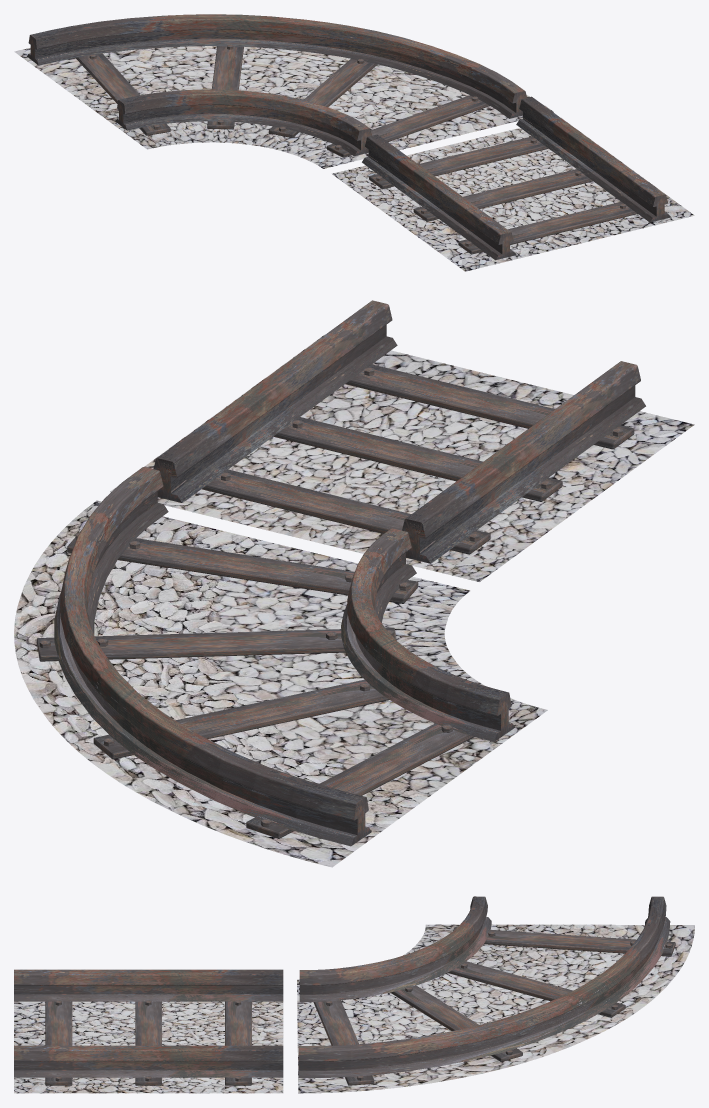
Rendered from Rails.fbx.
The picture shows the model from 3 angles, top to bottom: view 1: azimuth 30°, elevation 25°; view 2: azimuth 150°, elevation 25°; view 3: azimuth 270°, elevation 25°; orthographic projection. The views are drawn at different scales.
Visible parts, largest first — view 1: rayC, taslarC, rayH, taslarH; view 2: taslarC, rayC, rayH, taslarH; view 3: rayC, rayH, taslarC, taslarH.
Part boxes in pixels (x1,y1,x2,y2): rayC: (27,14,526,157); taslarC: (14,46,553,168); rayH: (362,96,670,260); taslarH: (332,118,694,271); taslarC: (14,500,547,867); rayC: (36,467,514,846); rayH: (153,300,645,563); taslarH: (110,334,694,581); rayC: (298,896,675,1085); rayH: (14,969,283,1085); taslarC: (297,924,694,1093); taslarH: (14,1001,283,1093).
Size of the model in its own units: 445 by 35.02 by 759.
Materials: 2 (2 with a texture image).
